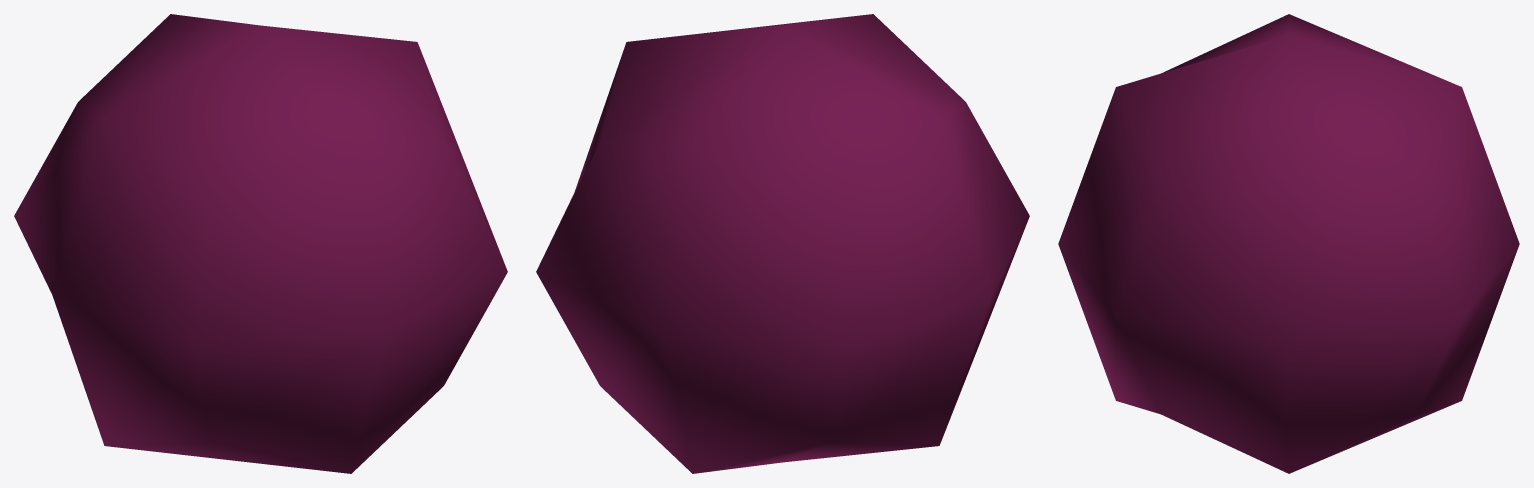
File: ParticleTaco.obj
3 renders of one model, left to right at view 1: azimuth 30°, elevation 25°; view 2: azimuth 150°, elevation 25°; view 3: azimuth 270°, elevation 25°, orthographic. The views are drawn at different scales.
Parts seen in each view (by area): view 1: Mesh_35; view 2: Mesh_35; view 3: Mesh_35.
Part boxes in pixels (x1=…): Mesh_35: x1=14, y1=14, x2=507, y2=473; Mesh_35: x1=536, y1=14, x2=1029, y2=473; Mesh_35: x1=1058, y1=14, x2=1519, y2=473.
Size of the model in its own units: 0.5215 by 0.5215 by 0.5215.
Materials: 1 (1 with a texture image).
